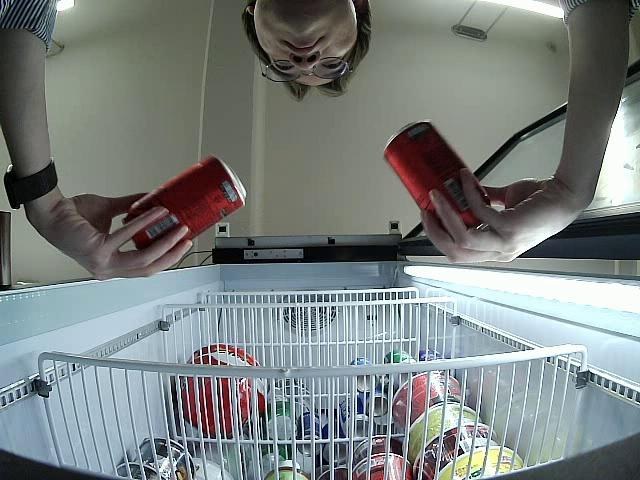00_hand: (421, 168, 563, 264), (69, 192, 192, 281)
11_cocaColaZero: (123, 156, 245, 252), (385, 124, 490, 231)
